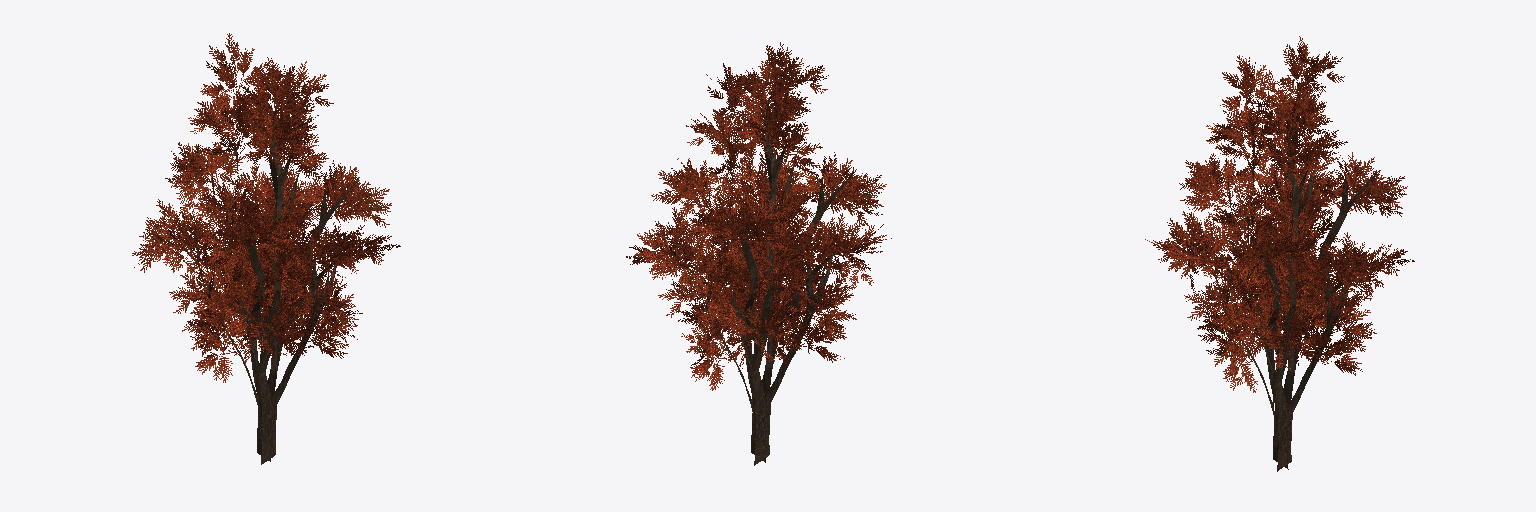
3 views of the same model, side by side, from view 1: azimuth 30°, elevation 25°; view 2: azimuth 150°, elevation 25°; view 3: azimuth 270°, elevation 25° (orthographic).
Parts seen in each view (by area): view 1: Leaves.001, Bark; view 2: Leaves.001, Bark; view 3: Leaves.001, Bark.
Boxes of the visible parts, box(x1,y1,x2,y2) form: Leaves.001: box(132, 33, 400, 382); Bark: box(168, 83, 356, 464); Leaves.001: box(626, 42, 891, 390); Bark: box(669, 93, 852, 465); Leaves.001: box(1145, 36, 1414, 392); Bark: box(1186, 83, 1378, 471).
Bounding box in the file's own units: 13.35 × 22 × 13.04.
Materials: 2 (2 with a texture image).